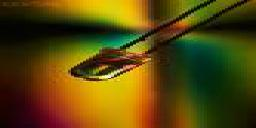LED: (69, 43, 157, 84)
